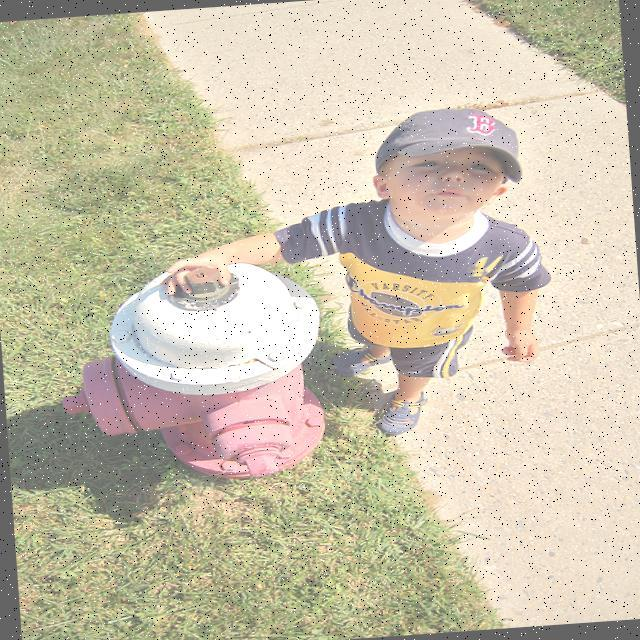fire_hydrant: (49, 260, 331, 492)
